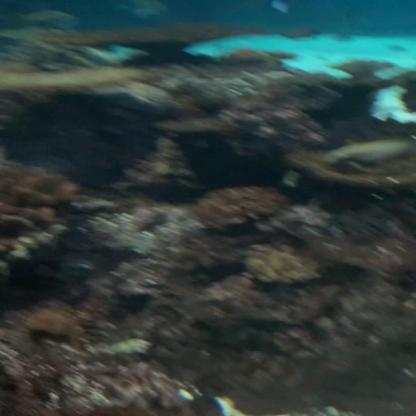fish: (320, 136, 416, 172)
